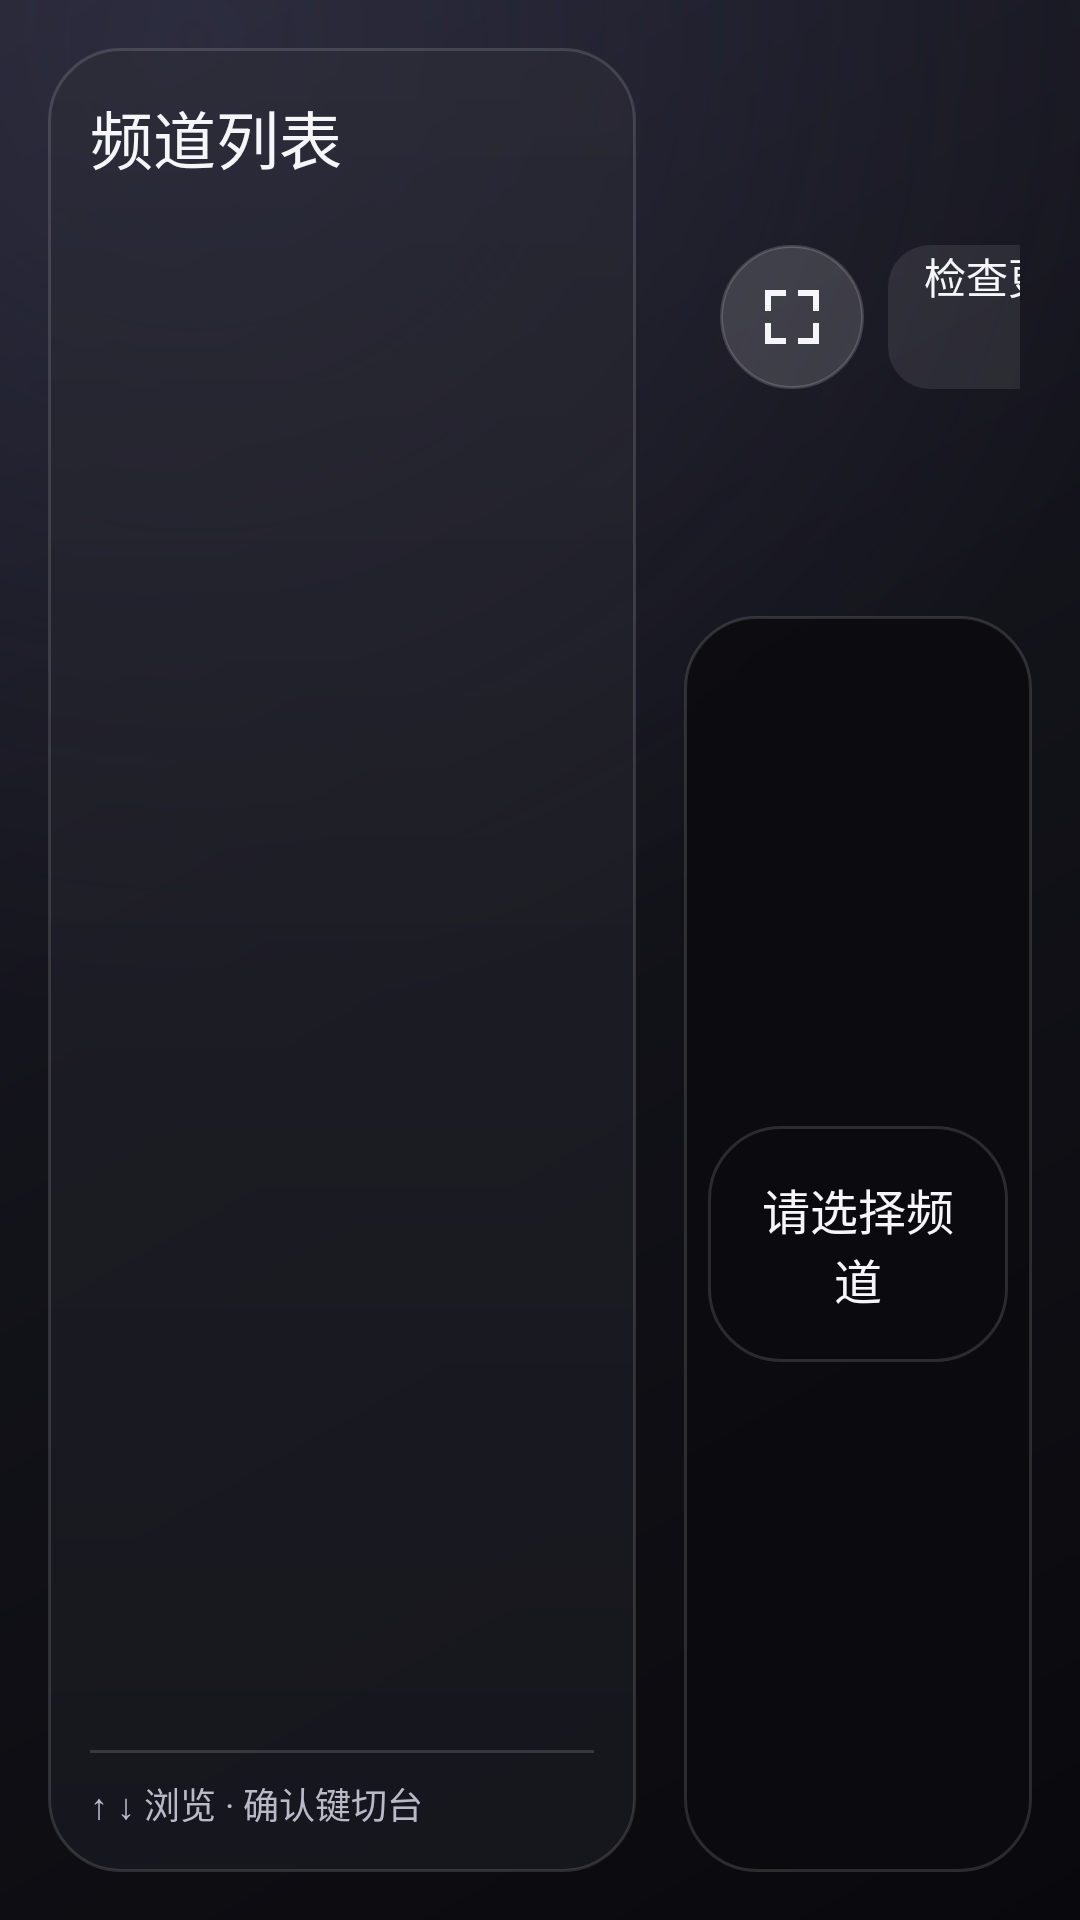

Where to tap for icons on this 1080 x 1920 app screen, as point (x, y):
全屏: point (792, 317)
